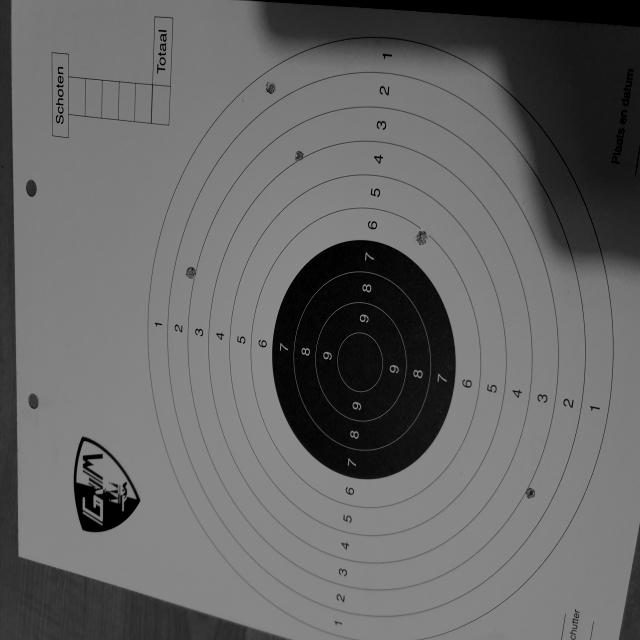1: (264, 80, 276, 95)
3: (184, 264, 197, 281), (524, 486, 536, 501)
4: (294, 149, 304, 163)
6: (415, 227, 429, 247)
Target: (149, 36, 615, 638)
black_contour: (274, 239, 456, 481)
